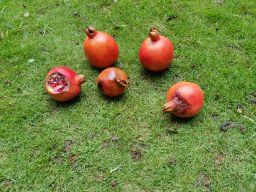pomegranate: (43, 65, 86, 104), (138, 27, 174, 72), (162, 81, 204, 118), (83, 27, 120, 67), (96, 67, 129, 97)
